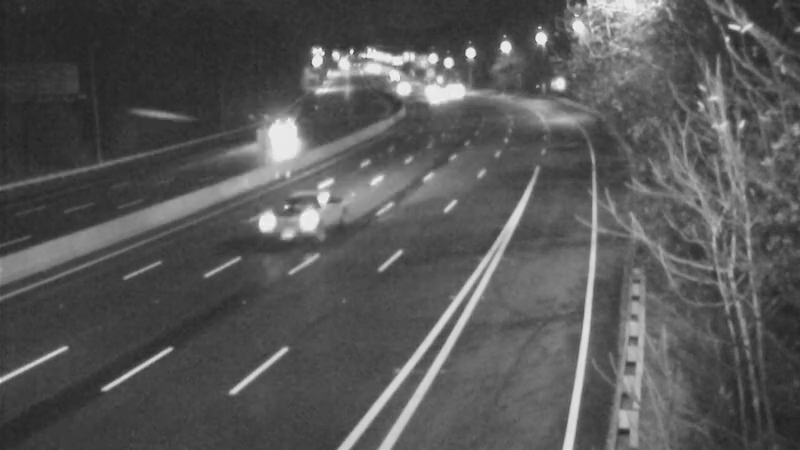vehicle: (243, 180, 323, 260), (378, 60, 428, 110), (407, 66, 457, 116), (433, 66, 483, 116), (410, 69, 460, 119), (259, 112, 309, 162)
